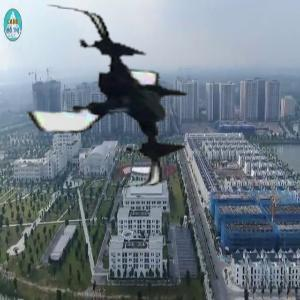drone: (6, 2, 201, 197)
